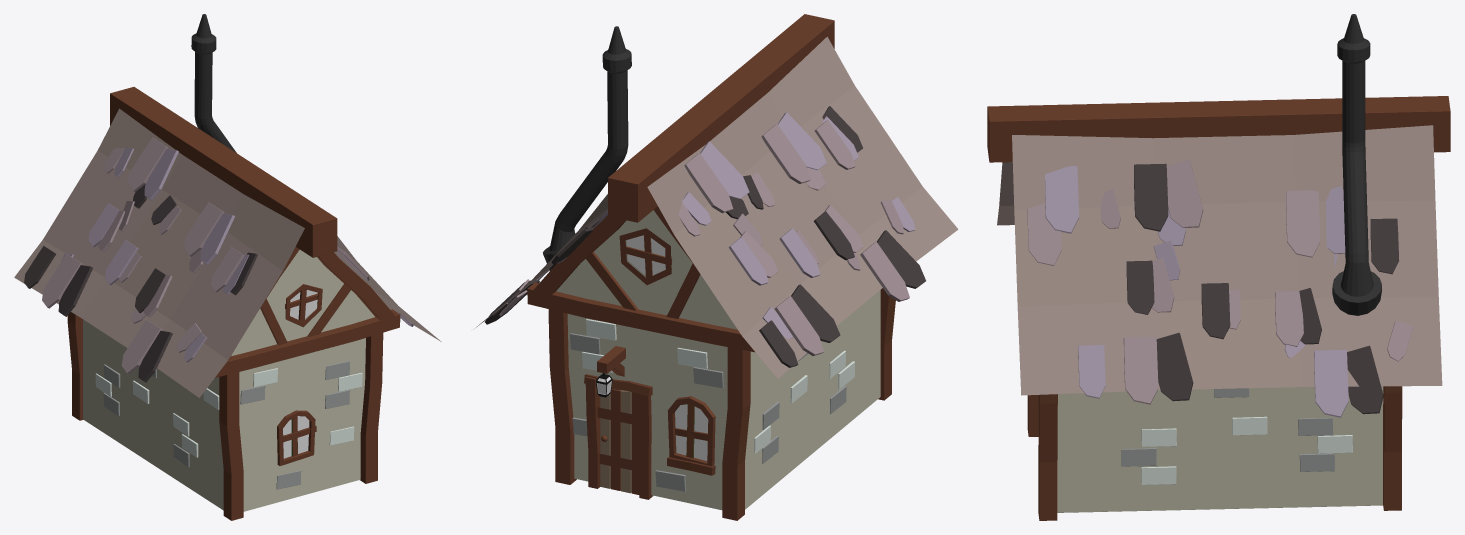
File: house.fbx
3 views of the same model, side by side, from view 1: azimuth 30°, elevation 25°; view 2: azimuth 150°, elevation 25°; view 3: azimuth 270°, elevation 25° (orthographic). The views are drawn at different scales.
Parts seen in each view (by area): view 1: Cube.010; view 2: Cube.010; view 3: Cube.010.
Part boxes in pixels (x1,y1,x2,y2): Cube.010: (14, 14, 441, 520); Cube.010: (473, 14, 958, 520); Cube.010: (987, 14, 1450, 520).
Bounding box in the file's own units: 509 × 688 × 605.
